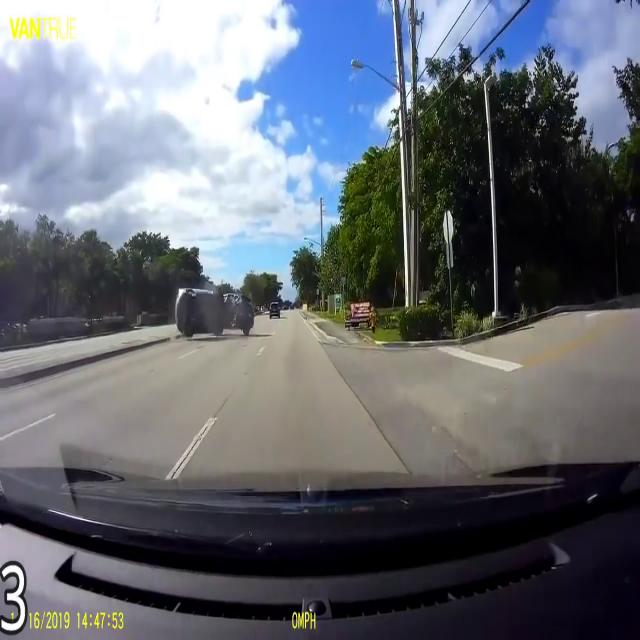accident: (176, 280, 257, 342), (178, 256, 223, 355)
